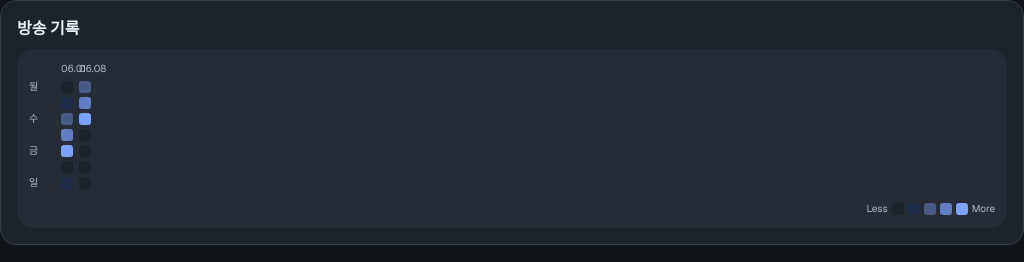
BroadcastContributionGraph › 그래프 바깥 영역을 누르면 팝오버가 닫히고 팝오버 안쪽을 눌러도 닫히지 않는다
Note: 03 칸을 열고
Step 1. Click the button named "06.03 방송 기록" → (67, 119), box [61,113,73,125]
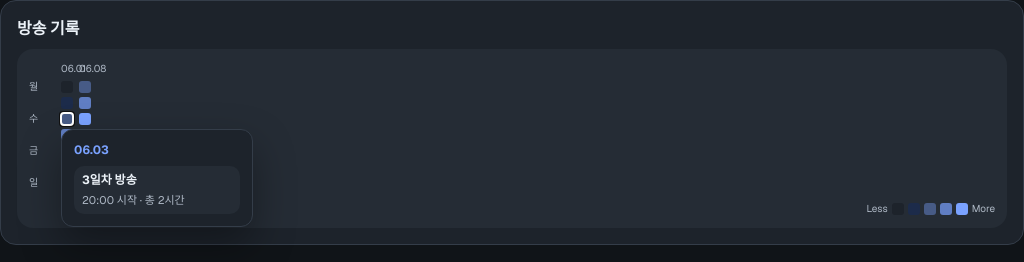
Note: 팝오버 안쪽을 클릭해도 닫히지 않는다
Step 2. Click the text "3일차 방송" → (109, 180), box [82,172,137,188]
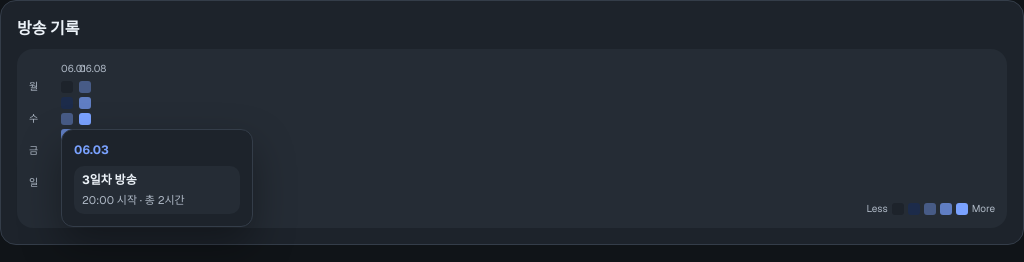
Expected: the text "3일차 방송" is shown, [82,172,137,188]
Note: 그래프의 다른 영역을 클릭하면 닫힌다
Step 3. Click the text "Less" → (877, 208), box [866,201,888,216]
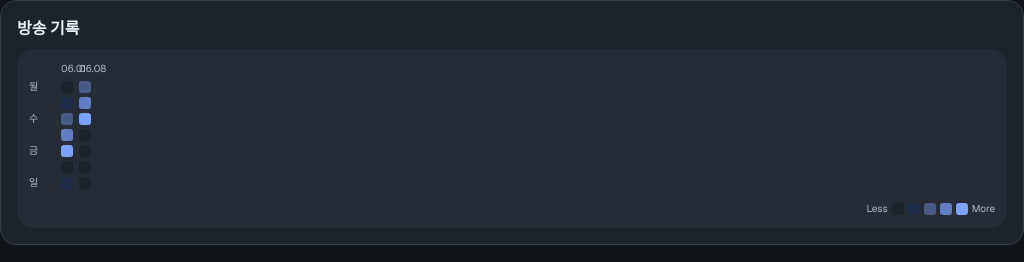
Expected: the text "3일차 방송" is gone
